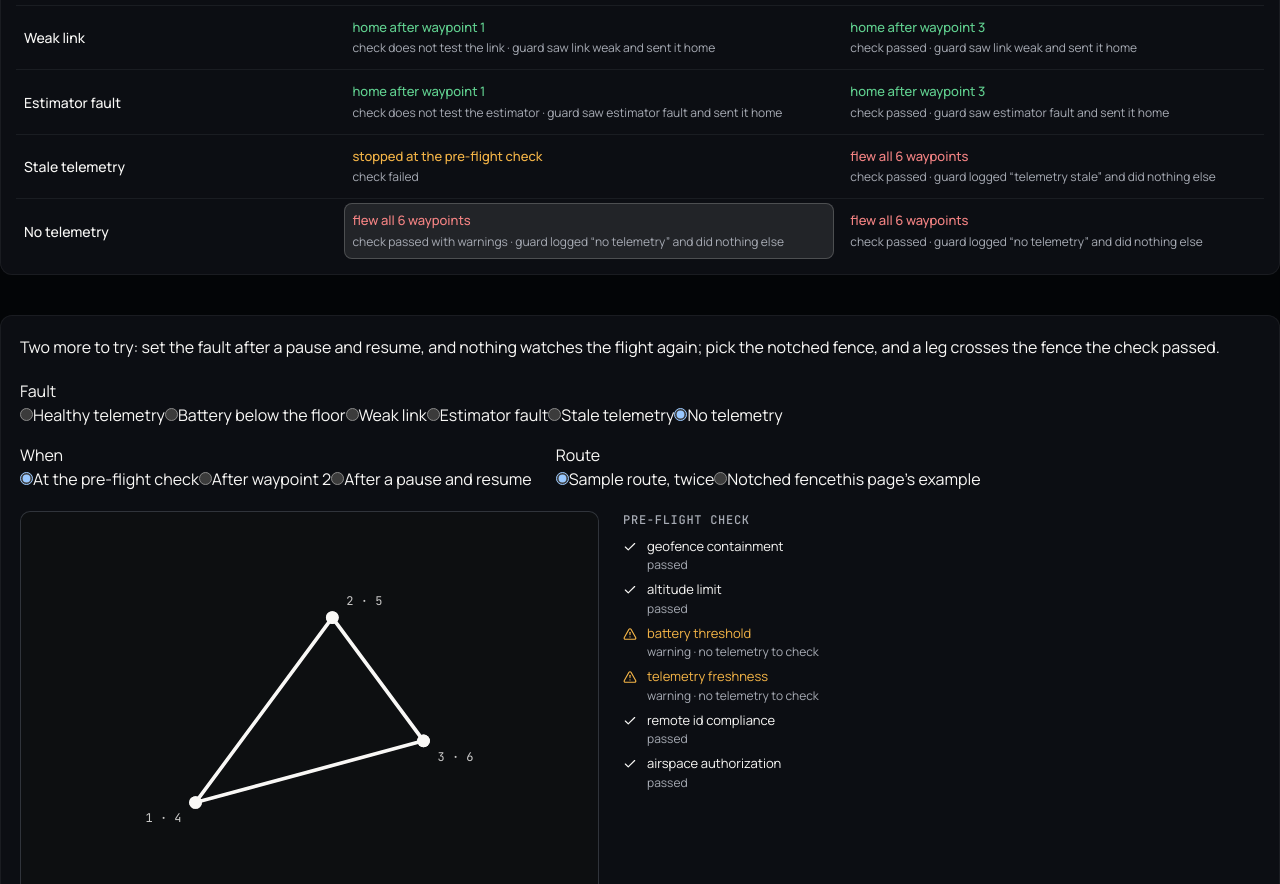
mission demo, after live QA › offers only the pre-flight timing on the two-waypoint notched route
(page scrolled)
Click the radio button labelled "After waypoint 2". click: [205, 478]
box: [199,472,212,485]
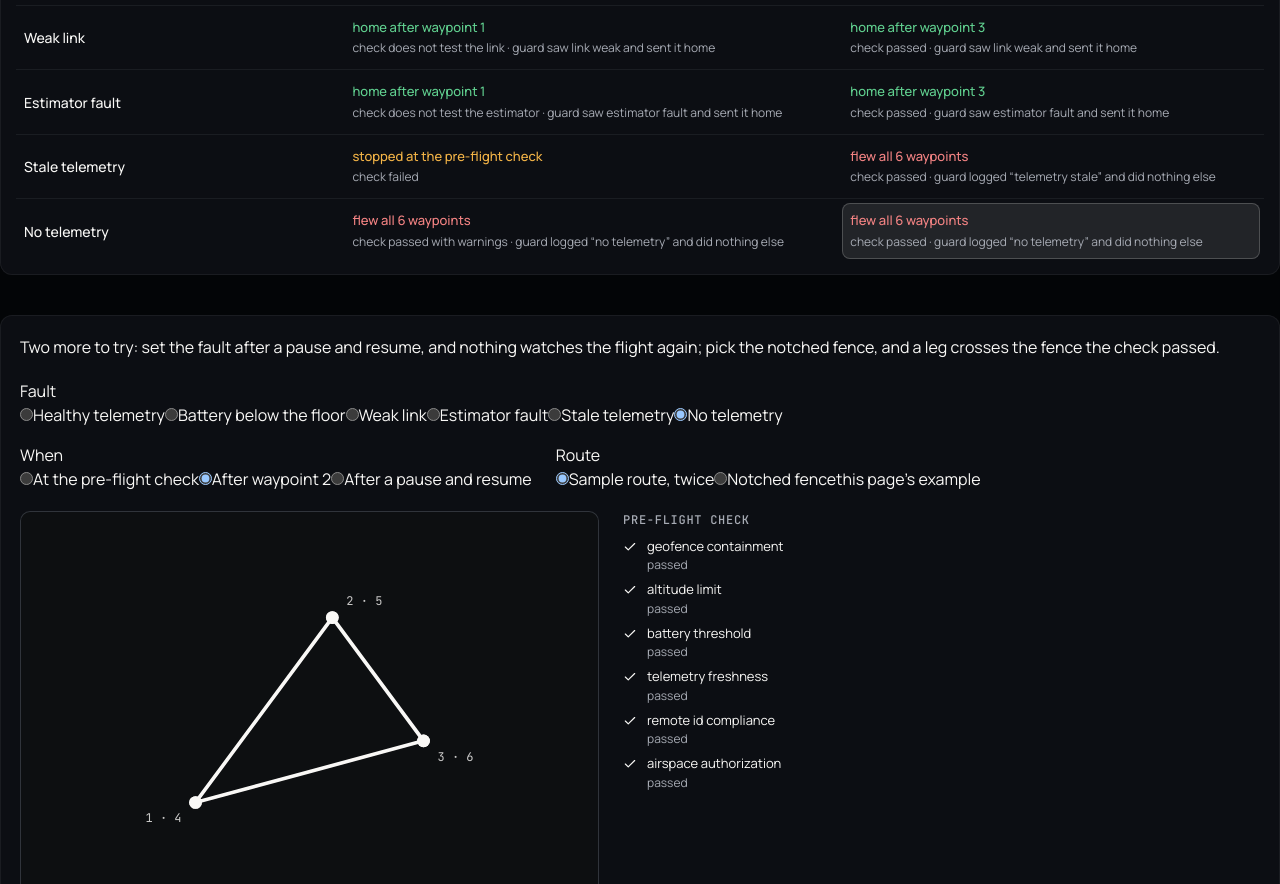
Click the radio button labelled "Notched fence". click: [721, 478]
box: [714,472,727,485]
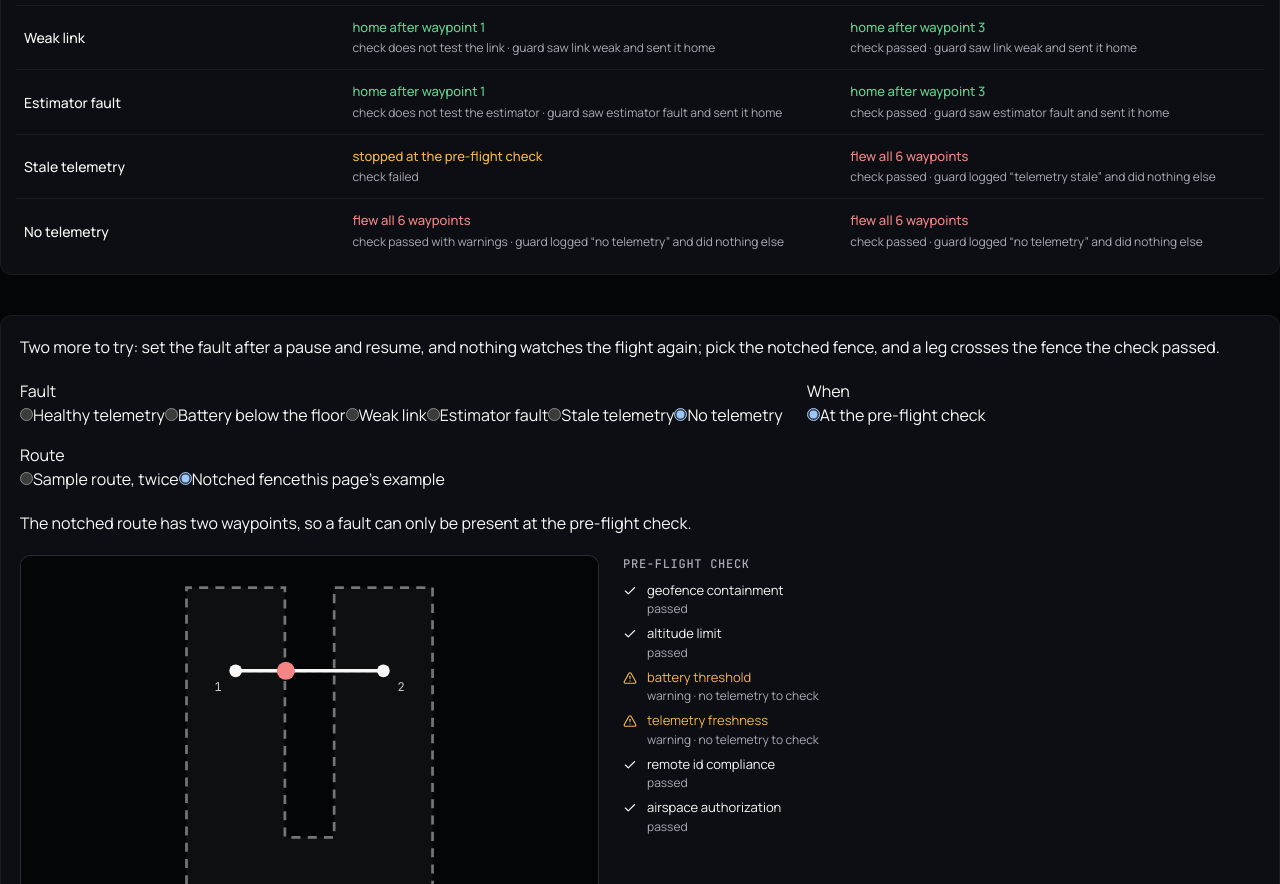
Result: the radio button labelled "At the pre-flight check" is checked at [807,408,820,421]
Result: the text "two waypoints, so a fault can only be present at the pre-flight check" is shown at [20,512,692,534]
